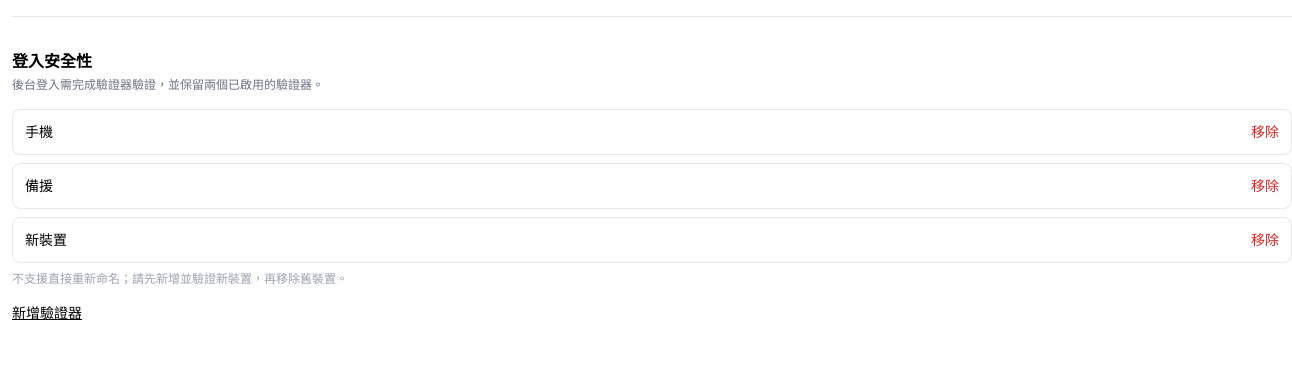
it: shows a recoverable error when factor refresh fails after removal
The width and height of the screenshot is (1292, 367).
Click the button with aria-label "移除 新裝置".
click(1265, 240)  # box [1251, 230, 1279, 250]
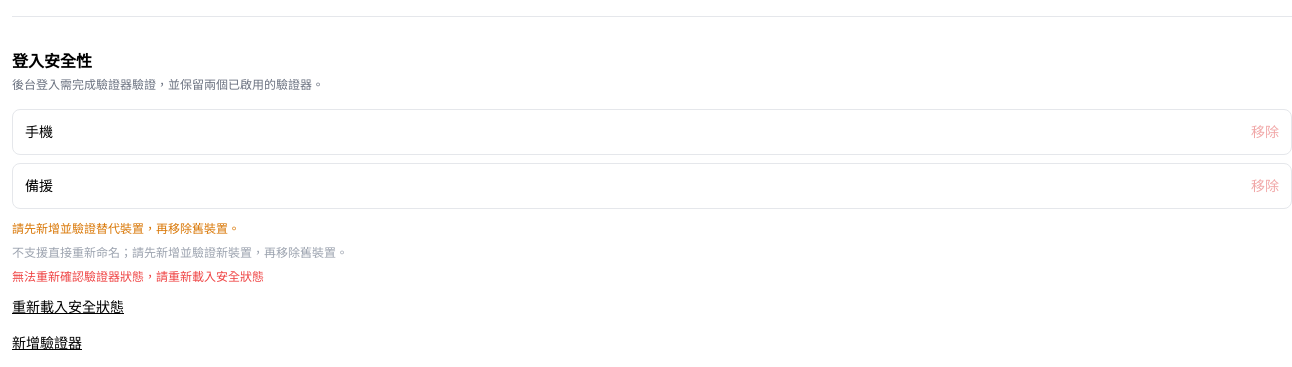
Expected: the message reads "無法重新確認驗證器狀態，請重新載入安全狀態", [12, 268, 264, 285]
Expected: the button "重新載入安全狀態" is shown, [12, 297, 124, 317]
